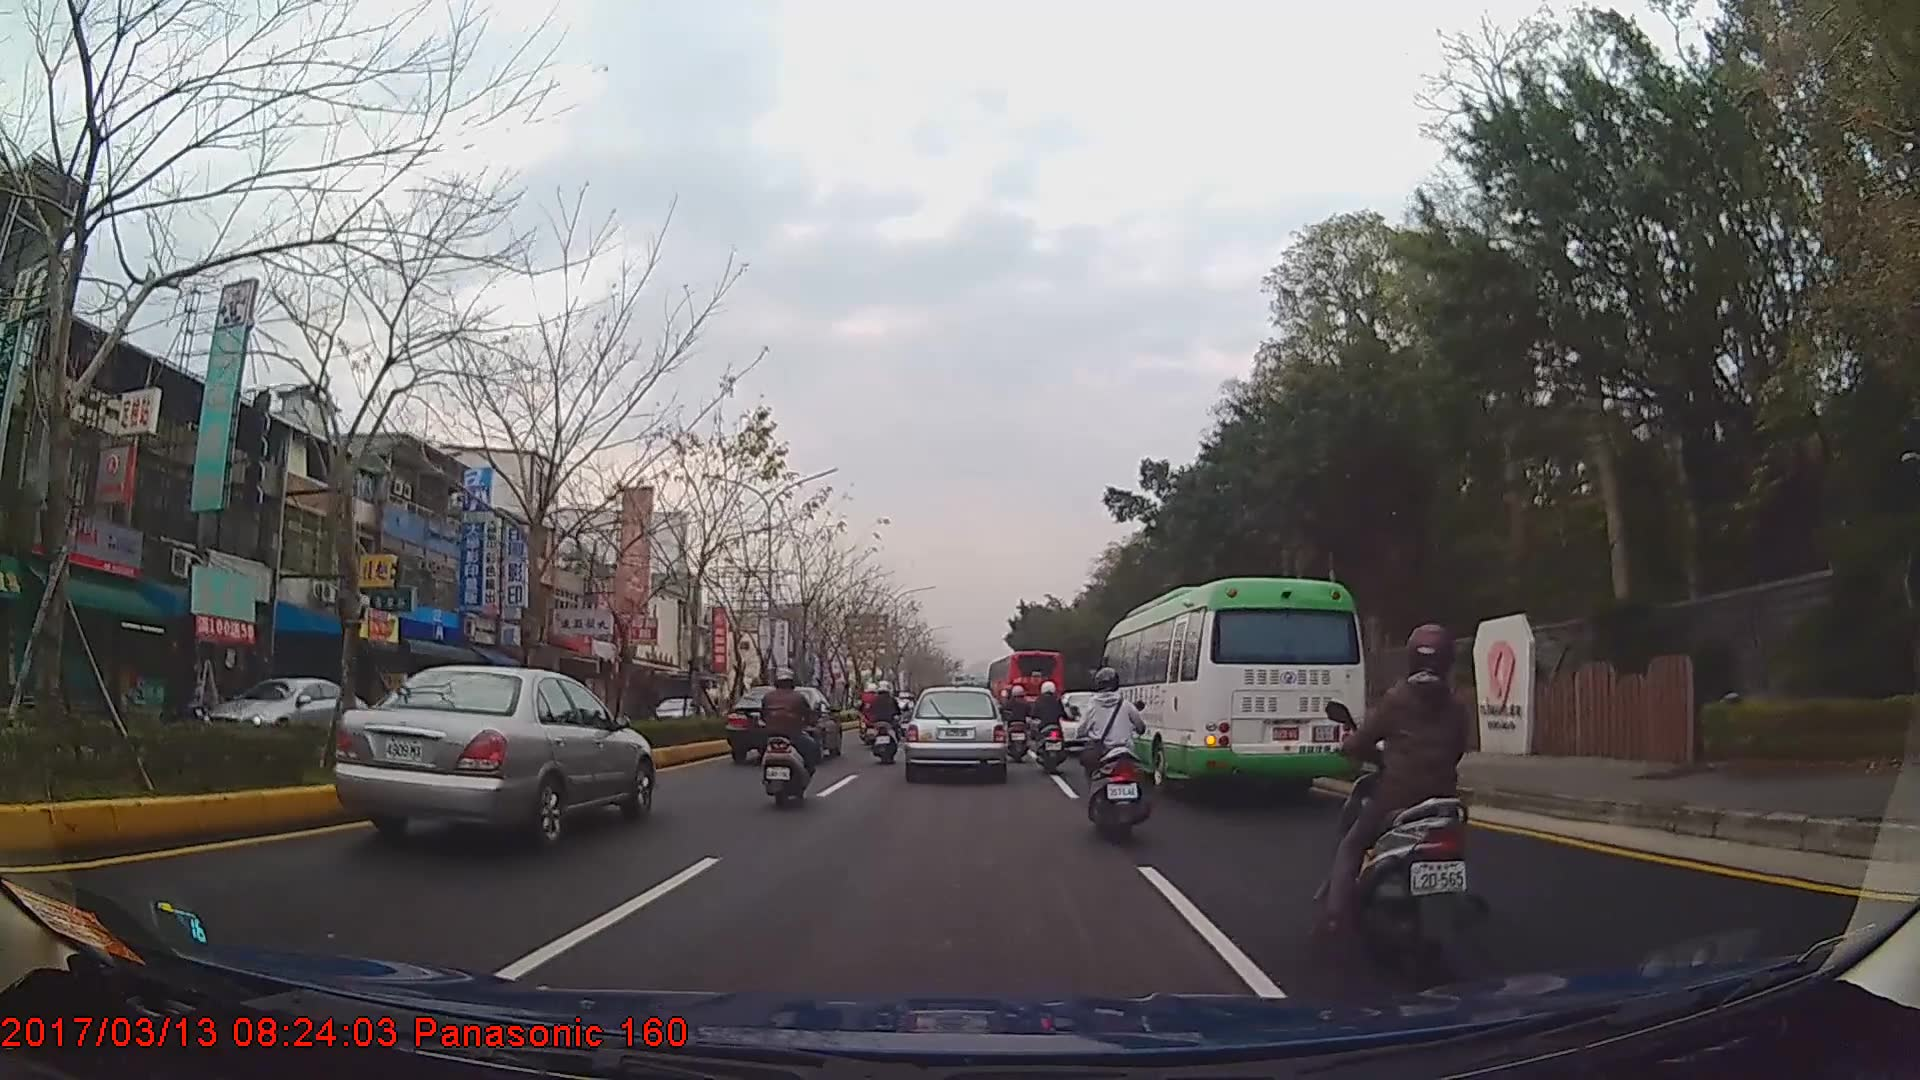rider: (1327, 618, 1489, 972), (1075, 665, 1149, 844), (756, 670, 823, 808), (1029, 680, 1067, 772), (866, 683, 904, 764), (999, 682, 1033, 763), (861, 682, 883, 748), (896, 692, 918, 742)
vehicle: (329, 658, 653, 847), (1095, 575, 1368, 795), (194, 672, 383, 756), (903, 684, 1007, 782), (725, 683, 842, 762), (986, 649, 1062, 739)
